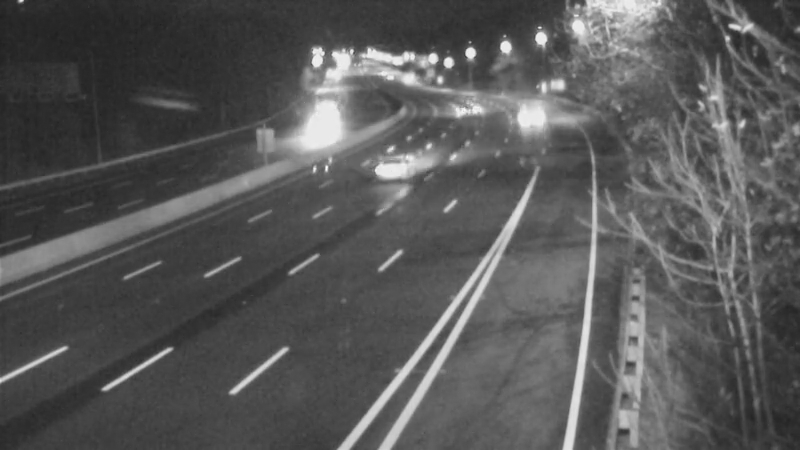vehicle: (343, 128, 423, 208), (380, 55, 430, 105), (498, 88, 548, 138), (439, 85, 489, 135), (299, 105, 349, 155)
